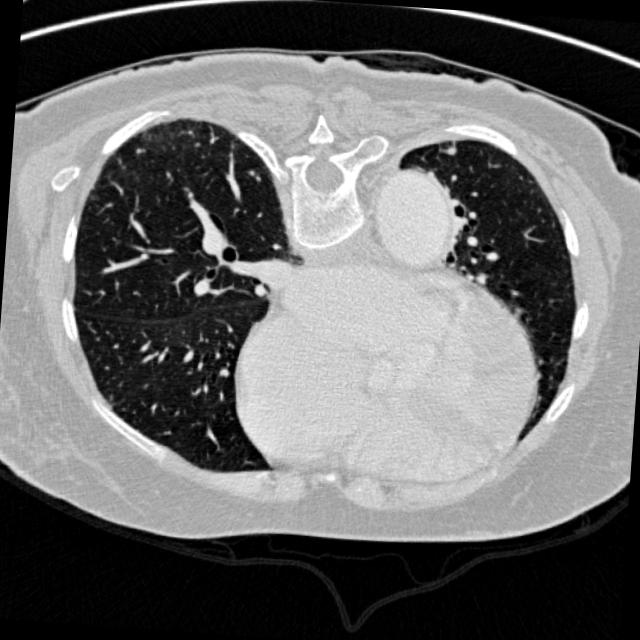nodule: (439, 139, 460, 160)
